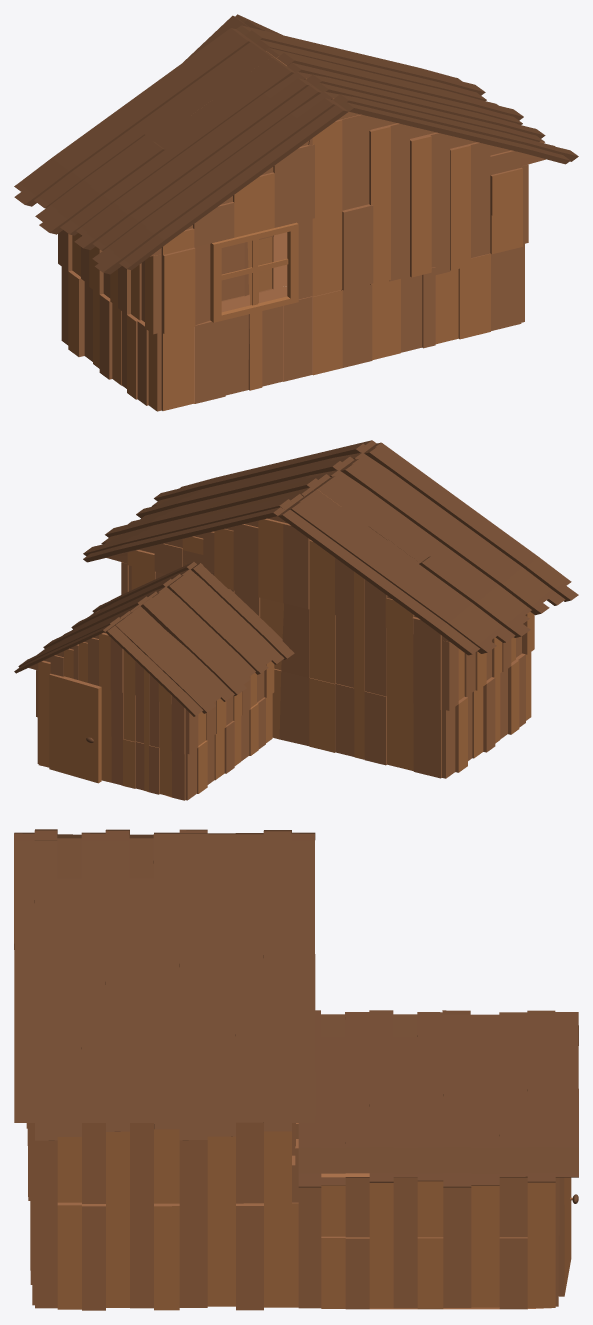
The model's file is big house.fbx.
3 renders of one model, top to bottom at view 1: azimuth 30°, elevation 25°; view 2: azimuth 150°, elevation 25°; view 3: azimuth 270°, elevation 25°, orthographic. The views are drawn at different scales.
Visible parts, largest first — view 1: Cube.001; view 2: Cube.001; view 3: Cube.001.
Boxes of the visible parts, x1=… form: Cube.001: x1=14, y1=14, x2=578, y2=411; Cube.001: x1=14, y1=440, x2=578, y2=800; Cube.001: x1=14, y1=829, x2=578, y2=1310.
Size of the model in its own units: 4286 by 2283 by 3302.
